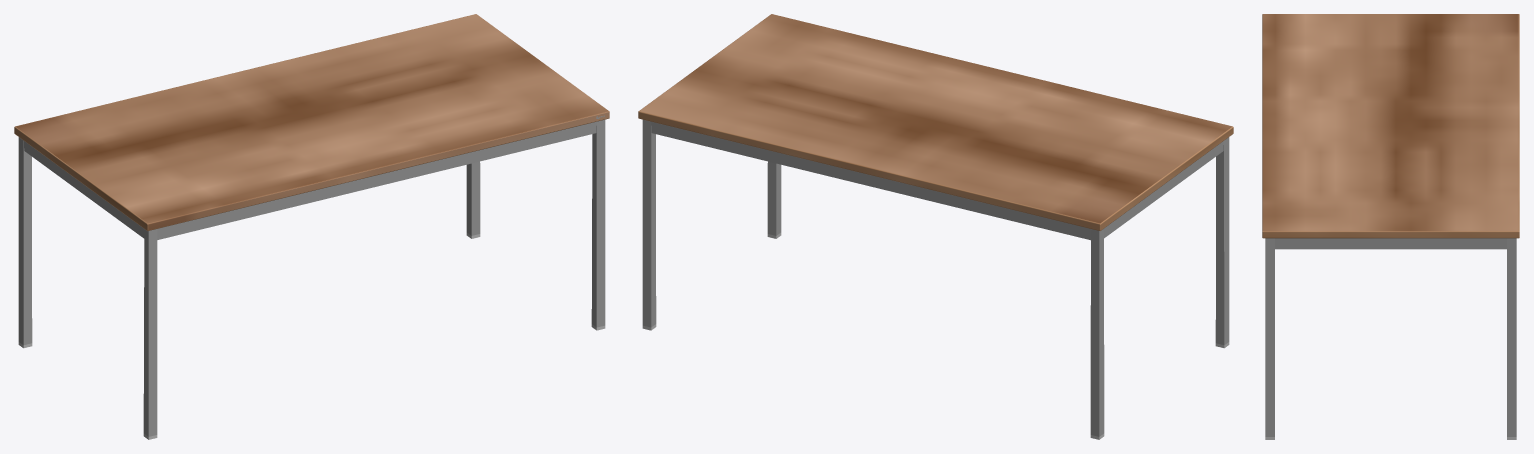
File: Table_DL4_160x80_basic_frame_FINAL.fbx
The picture shows the model from 3 angles, left to right: view 1: azimuth 30°, elevation 25°; view 2: azimuth 150°, elevation 25°; view 3: azimuth 270°, elevation 25°; orthographic projection. The views are drawn at different scales.
Parts seen in each view (by area): view 1: drewno, metal; view 2: drewno, metal; view 3: drewno, metal.
Part boxes in pixels (x1,y1,x2,y2): drewno: (14, 14, 609, 230); metal: (18, 115, 605, 436); drewno: (638, 14, 1233, 230); metal: (642, 119, 1229, 436); drewno: (1262, 14, 1519, 238); metal: (1265, 238, 1516, 436).
Size of the model in its own units: 160 by 72 by 80.01.
